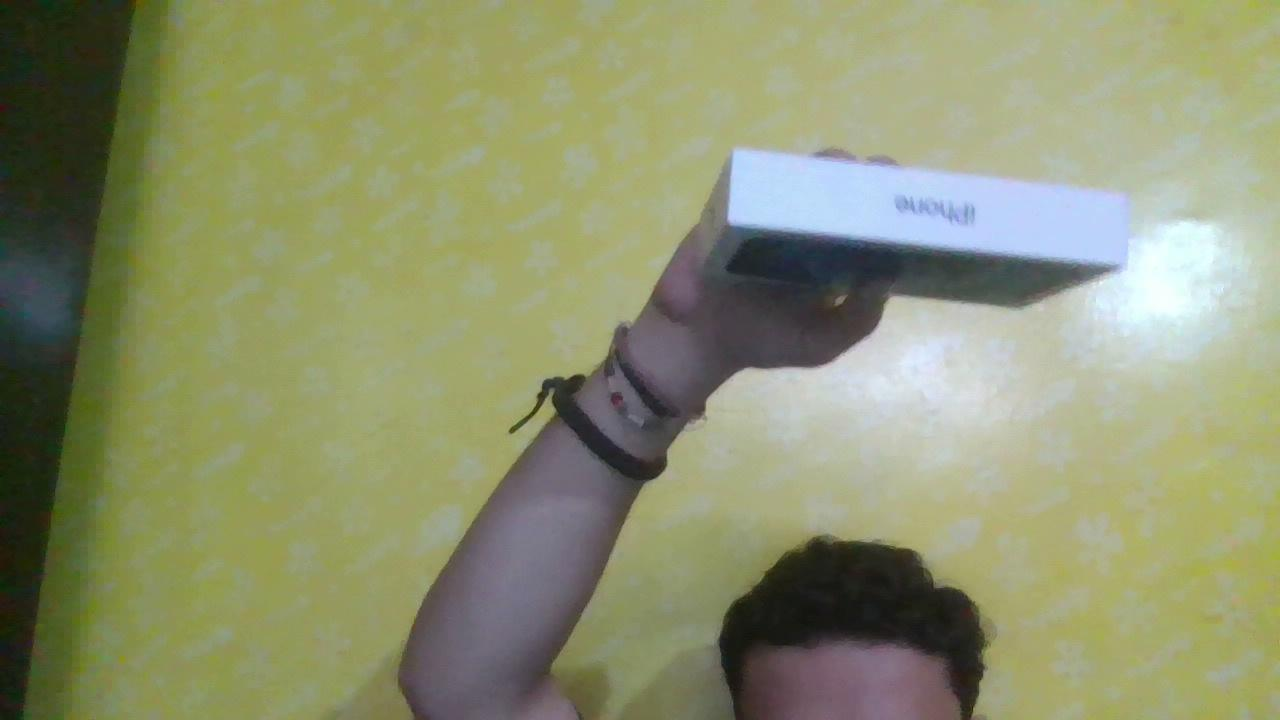Phone: (683, 120, 1153, 357)
